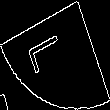L_NE: (32, 31, 78, 79)
